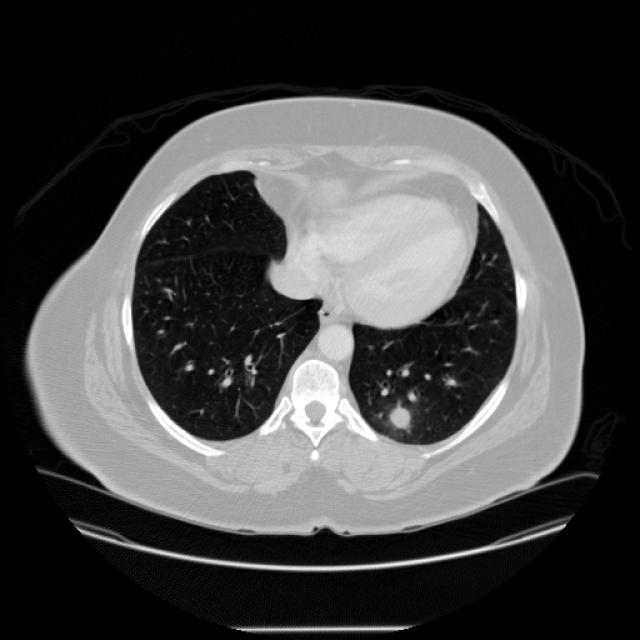nodule: (374, 391, 424, 441)
